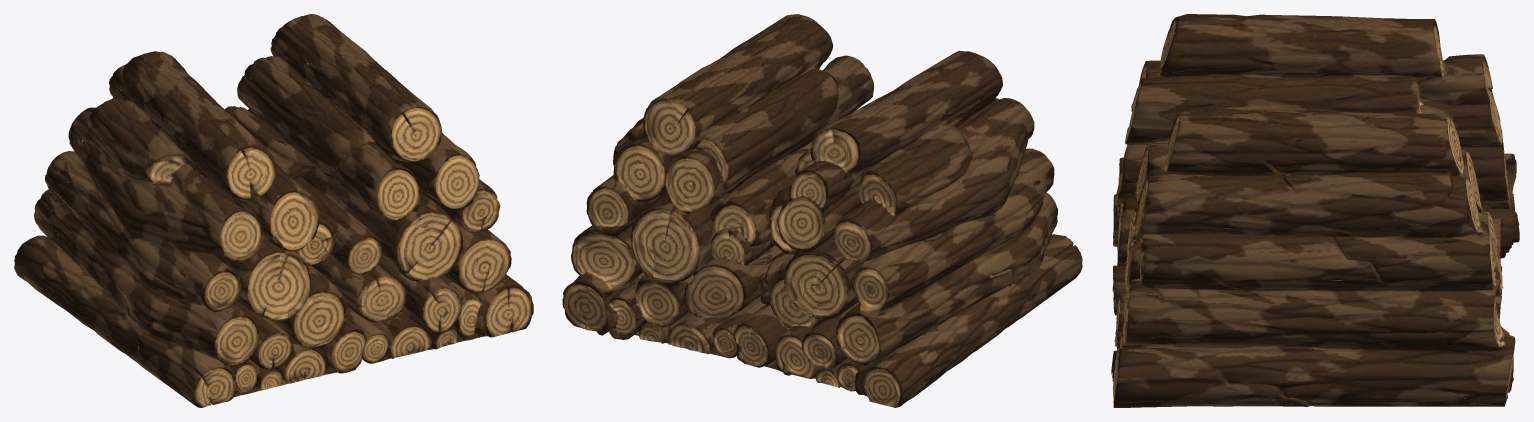
File: pile_of_wood_1.glb
3 renders of one model, left to right at view 1: azimuth 30°, elevation 25°; view 2: azimuth 150°, elevation 25°; view 3: azimuth 270°, elevation 25°, orthographic. The views are drawn at different scales.
Parts seen in each view (by area): view 1: Mesh_0; view 2: Mesh_0; view 3: Mesh_0.
Boxes of the visible parts, <box> form: Mesh_0: <box>14,14,533,407</box>; Mesh_0: <box>562,14,1082,407</box>; Mesh_0: <box>1111,14,1519,407</box>.
Size of the model in its own units: 1.9 by 1.22 by 1.75.
1 material, 1 textured.
